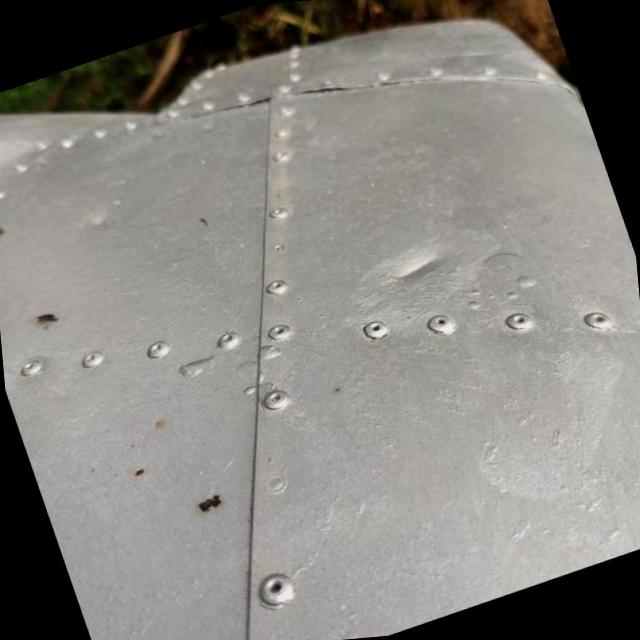dent: (374, 236, 449, 292)
